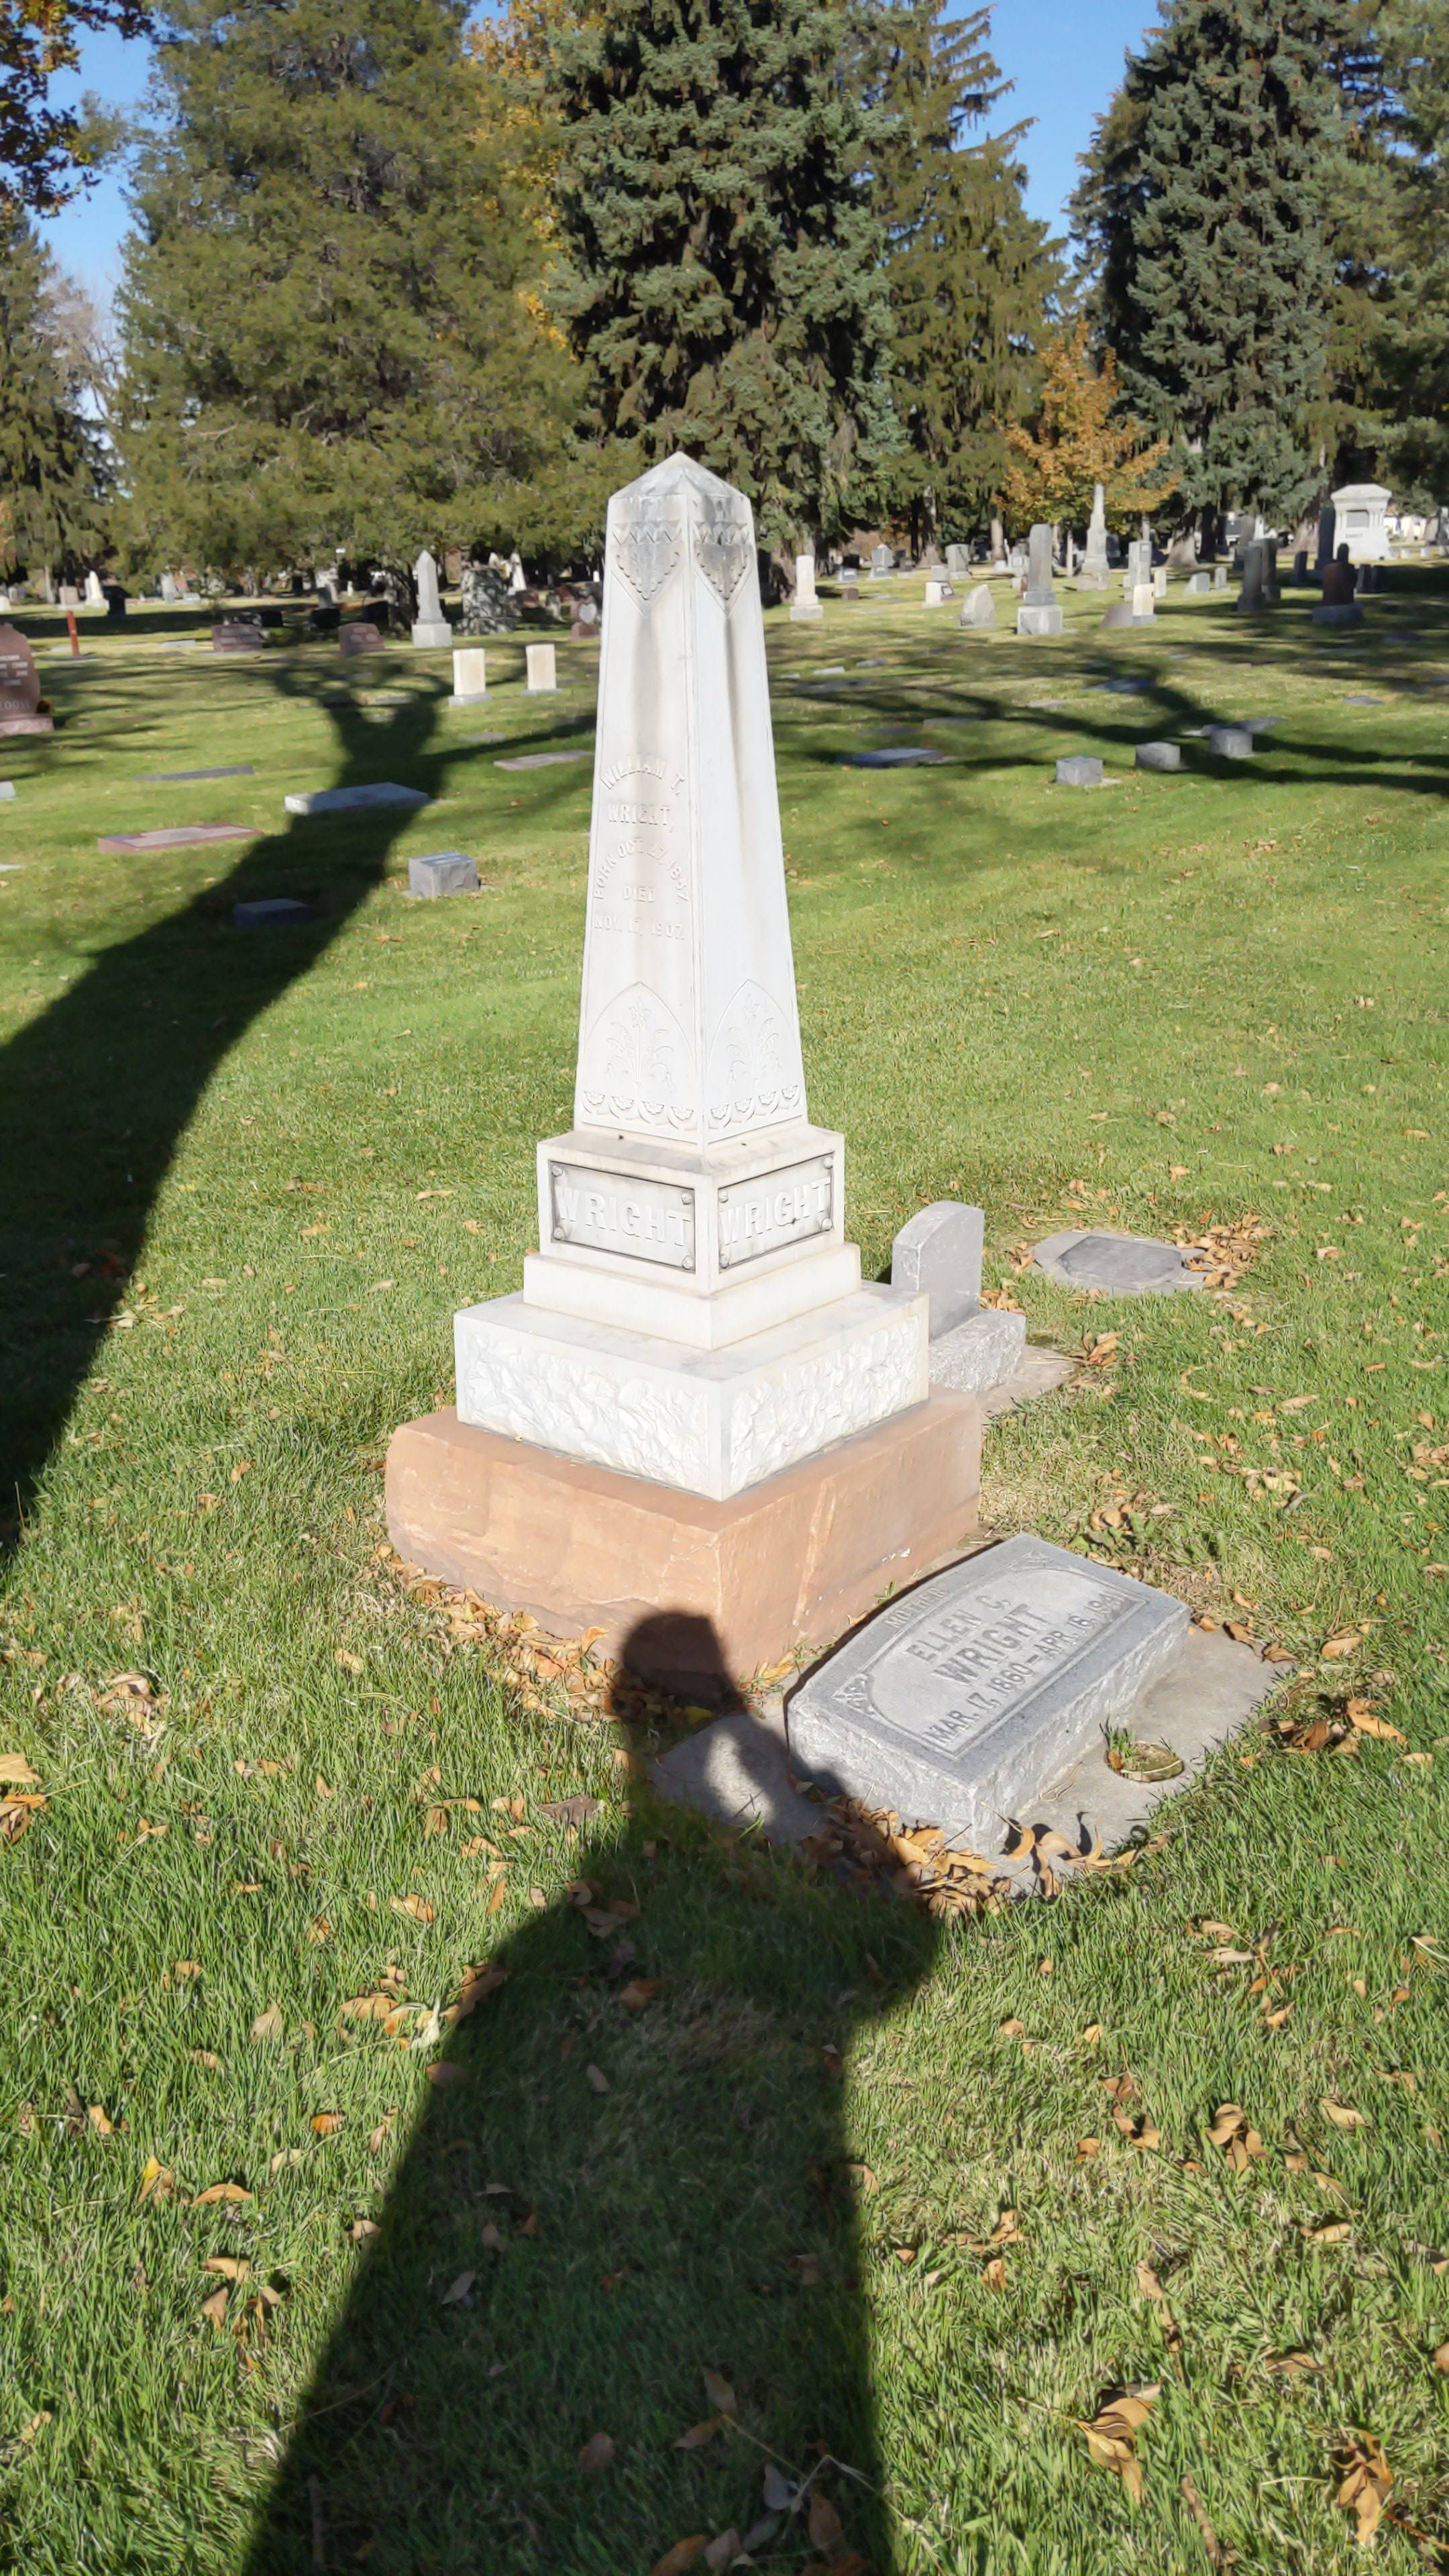obelisk: (444, 451, 927, 1500)
